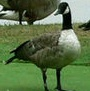goose: (1, 1, 89, 91)
